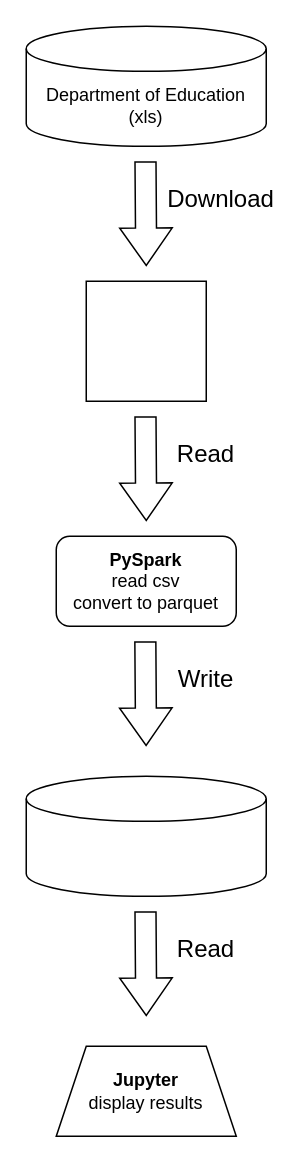
Some shapes in this 300 by 1163 pixel diagram are drawn without their labels. Here are the shapes that lost their labels. From the top down, the centre of each, then its label:
the point at 145,340: Python read convert to csv
the point at 145,835: Local HDFS Cluster (parquet)
